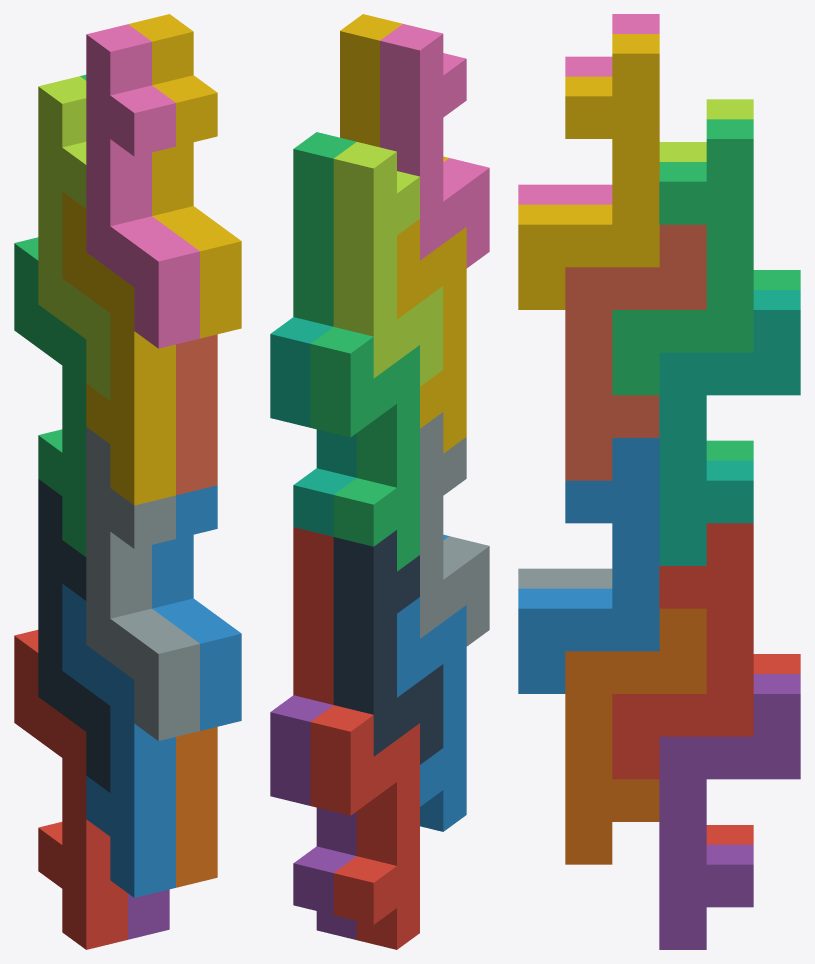
File: tiling.obj
3 views of the same model, side by side, from view 1: azimuth 30°, elevation 25°; view 2: azimuth 150°, elevation 25°; view 3: azimuth 270°, elevation 25° (orthographic). The views are drawn at different scales.
Visible parts, largest first — view 1: copy_2_domain_4, copy_2_domain_2, copy_1_domain_2, copy_1_domain_4, copy_1_domain_1, copy_2_domain_8, copy_2_domain_3, copy_1_domain_3, copy_2_domain_6, copy_2_domain_1, copy_1_domain_8, copy_1_domain_6 (+1 smaller); view 2: copy_1_domain_1, copy_1_domain_3, copy_2_domain_3, copy_2_domain_4, copy_2_domain_1, copy_2_domain_2, copy_1_domain_2, copy_1_domain_5, copy_1_domain_4, copy_1_domain_7, copy_2_domain_7, copy_2_domain_5 (+1 smaller); view 3: copy_2_domain_8, copy_1_domain_5, copy_1_domain_7, copy_2_domain_6, copy_2_domain_7, copy_2_domain_5, copy_1_domain_6, copy_1_domain_8, copy_2_domain_4, copy_2_domain_2, copy_1_domain_3, copy_2_domain_3 (+1 smaller).
Part boxes in pixels (x1,y1,x2,y2): copy_2_domain_4: [86, 24, 199, 348]; copy_2_domain_2: [86, 427, 199, 740]; copy_1_domain_2: [62, 584, 175, 897]; copy_1_domain_4: [62, 191, 175, 505]; copy_1_domain_1: [14, 630, 127, 949]; copy_2_domain_8: [128, 14, 241, 338]; copy_2_domain_3: [38, 76, 110, 400]; copy_1_domain_3: [14, 237, 86, 556]; copy_2_domain_6: [152, 485, 241, 730]; copy_2_domain_1: [38, 479, 110, 792]; copy_1_domain_8: [176, 334, 217, 495]; copy_1_domain_6: [176, 727, 217, 887]; copy_1_domain_1: [310, 705, 419, 949]; copy_1_domain_3: [310, 327, 419, 571]; copy_2_domain_3: [333, 142, 443, 386]; copy_2_domain_4: [380, 24, 489, 268]; copy_2_domain_1: [333, 530, 443, 764]; copy_2_domain_2: [420, 412, 489, 646]; copy_1_domain_2: [397, 597, 466, 831]; copy_1_domain_5: [270, 695, 356, 939]; copy_1_domain_4: [397, 219, 466, 453]; copy_1_domain_7: [270, 317, 356, 536]; copy_2_domain_7: [293, 132, 356, 326]; copy_2_domain_5: [293, 527, 333, 704]; copy_2_domain_8: [518, 34, 659, 309]; copy_1_domain_5: [659, 674, 800, 949]; copy_1_domain_7: [659, 290, 800, 565]; copy_2_domain_6: [518, 438, 659, 693]; copy_2_domain_7: [612, 119, 753, 395]; copy_2_domain_5: [612, 523, 753, 779]; copy_1_domain_6: [565, 608, 706, 864]; copy_1_domain_8: [565, 224, 706, 480]; copy_2_domain_4: [518, 14, 659, 204]; copy_2_domain_2: [518, 568, 612, 588]; copy_1_domain_3: [706, 270, 800, 460]; copy_2_domain_3: [659, 99, 753, 161].
Size of the model in its own units: 2 by 21 by 6.
